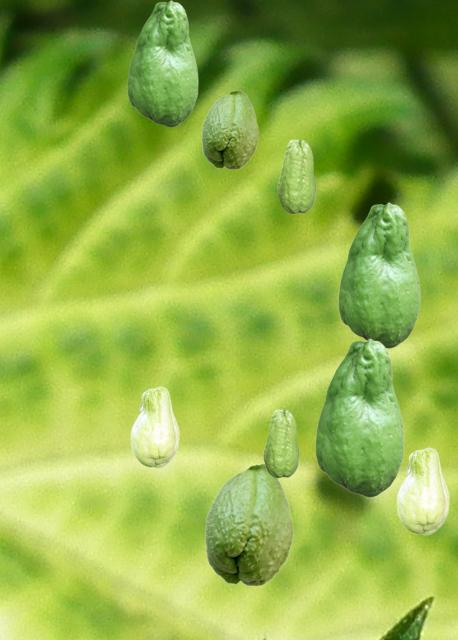sayote: (315, 338, 403, 496), (338, 202, 419, 347), (204, 462, 293, 586), (127, 0, 197, 126), (201, 89, 258, 169), (396, 447, 448, 534), (130, 386, 178, 467), (277, 139, 315, 213), (263, 409, 298, 477)
